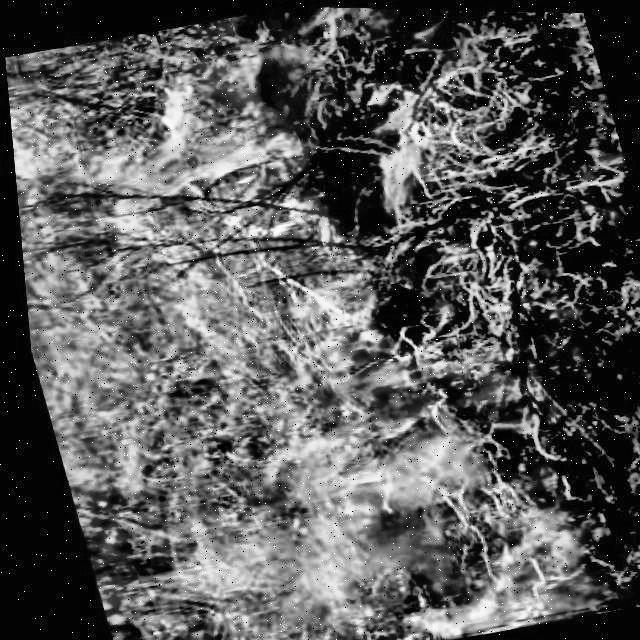Fire: (176, 280, 549, 536), (3, 44, 322, 274), (54, 437, 269, 640), (320, 54, 493, 211), (249, 182, 349, 274)
Smoke: (209, 403, 597, 640)
